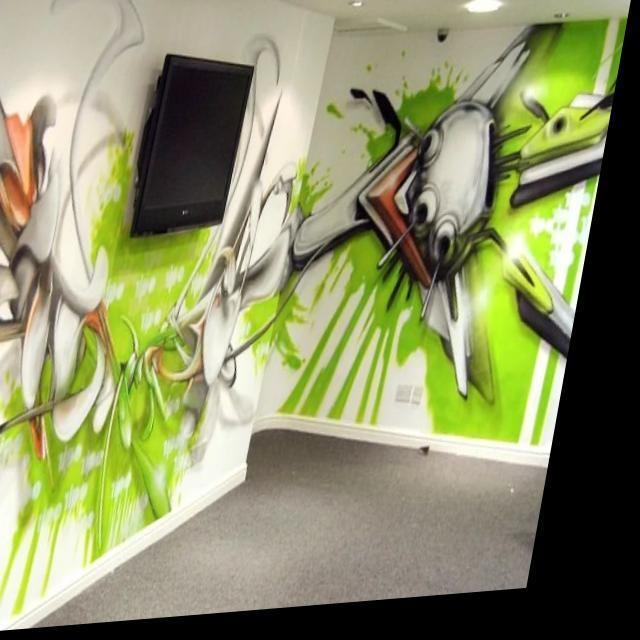-: (0, 0, 336, 538), (275, 31, 630, 434)
